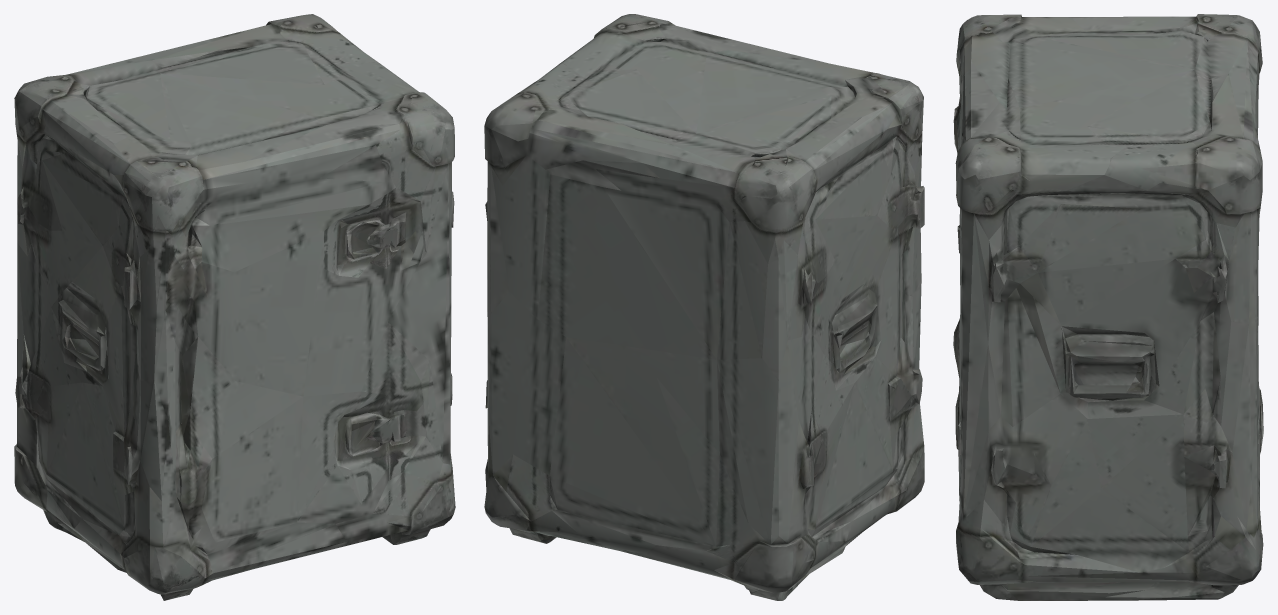
File: locker.glb
3 views of the same model, side by side, from view 1: azimuth 30°, elevation 25°; view 2: azimuth 150°, elevation 25°; view 3: azimuth 270°, elevation 25° (orthographic). The views are drawn at different scales.
Visible parts, largest first — view 1: output_unwrapped; view 2: output_unwrapped; view 3: output_unwrapped.
Part boxes in pixels (box(x1,y1,x2,y2)): output_unwrapped: box(14, 14, 455, 600); output_unwrapped: box(484, 14, 924, 600); output_unwrapped: box(953, 14, 1263, 600).
Size of the model in its own units: 0.973 by 1.25 by 0.7777.
1 material, 1 textured.
